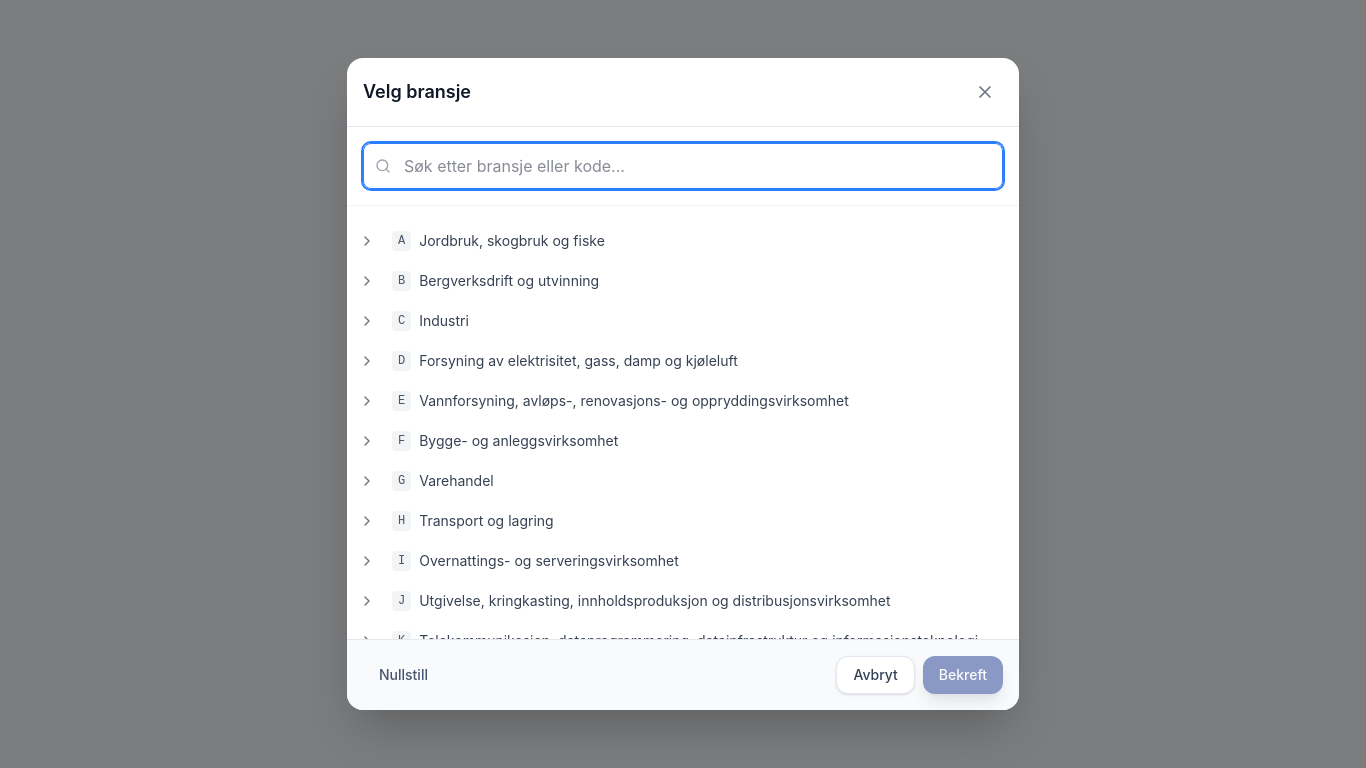
it: NacePickerModal › announces expand/collapse state for tree toggle buttons
The image size is (1366, 768).
Click the button named "Utvid A Jordbruk, skogbruk og fiske" at (367, 241), box [355, 229, 379, 253]
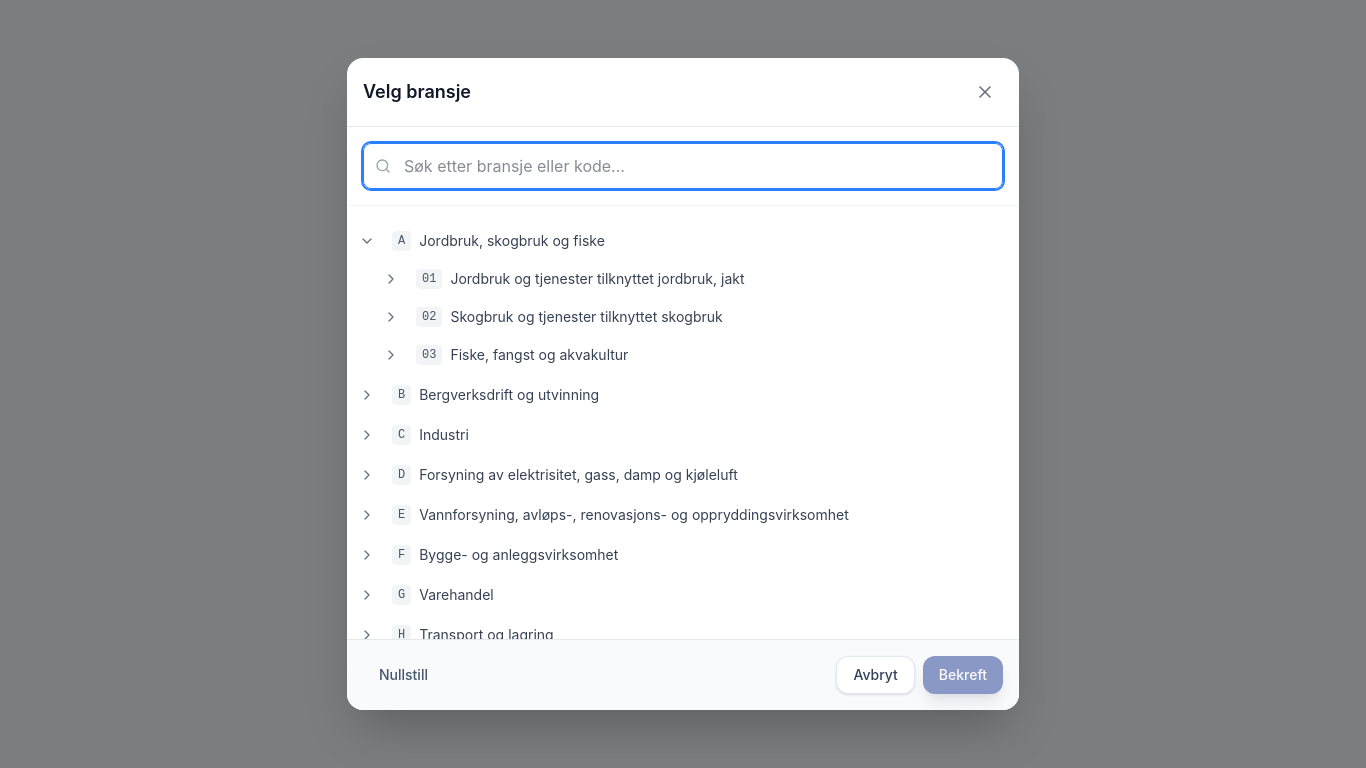
Expected: the button named "Utvid A Jordbruk, skogbruk og fiske" is expanded, [355, 229, 379, 253]
